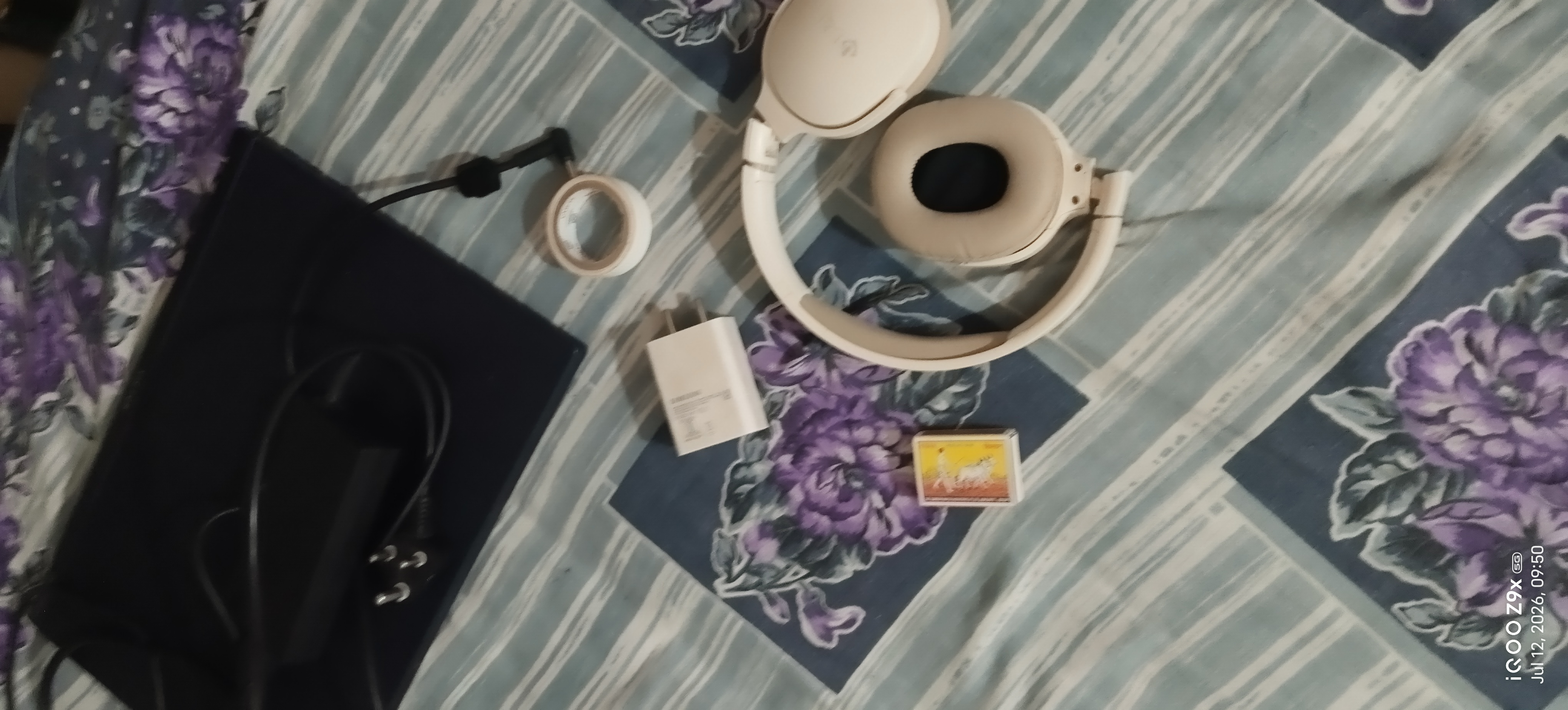charger: (628, 301, 782, 469)
matchbox: (888, 417, 1049, 530)
tape_roll: (523, 159, 666, 301)
